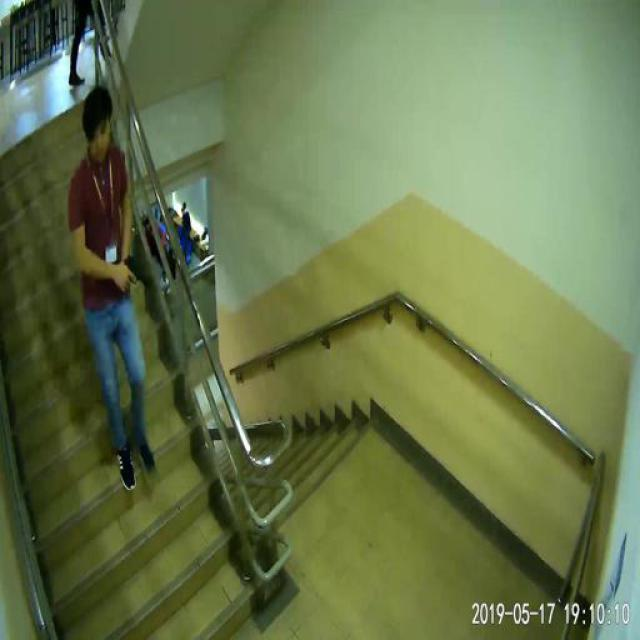weapon: (122, 256, 150, 288)
